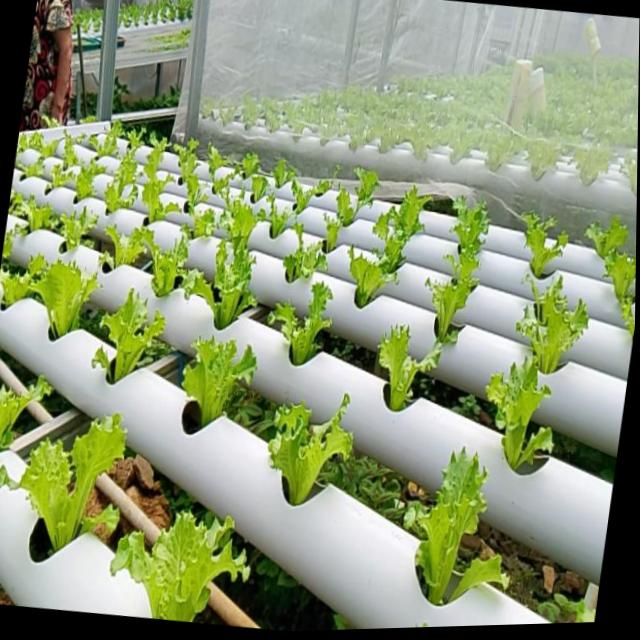Baby: (0, 412, 121, 547), (106, 509, 244, 619), (398, 448, 479, 603), (420, 200, 482, 352), (262, 395, 346, 506), (477, 359, 543, 472), (176, 338, 251, 435), (508, 278, 579, 376), (92, 290, 159, 384), (26, 256, 96, 338), (262, 284, 327, 367), (372, 327, 435, 412), (367, 189, 424, 275), (128, 228, 190, 300), (98, 132, 138, 215), (269, 225, 321, 285), (594, 249, 636, 323), (212, 194, 260, 257), (342, 249, 390, 310), (515, 215, 559, 281), (69, 159, 98, 201), (83, 121, 116, 157), (206, 168, 229, 200), (187, 210, 210, 239), (56, 132, 72, 170)
